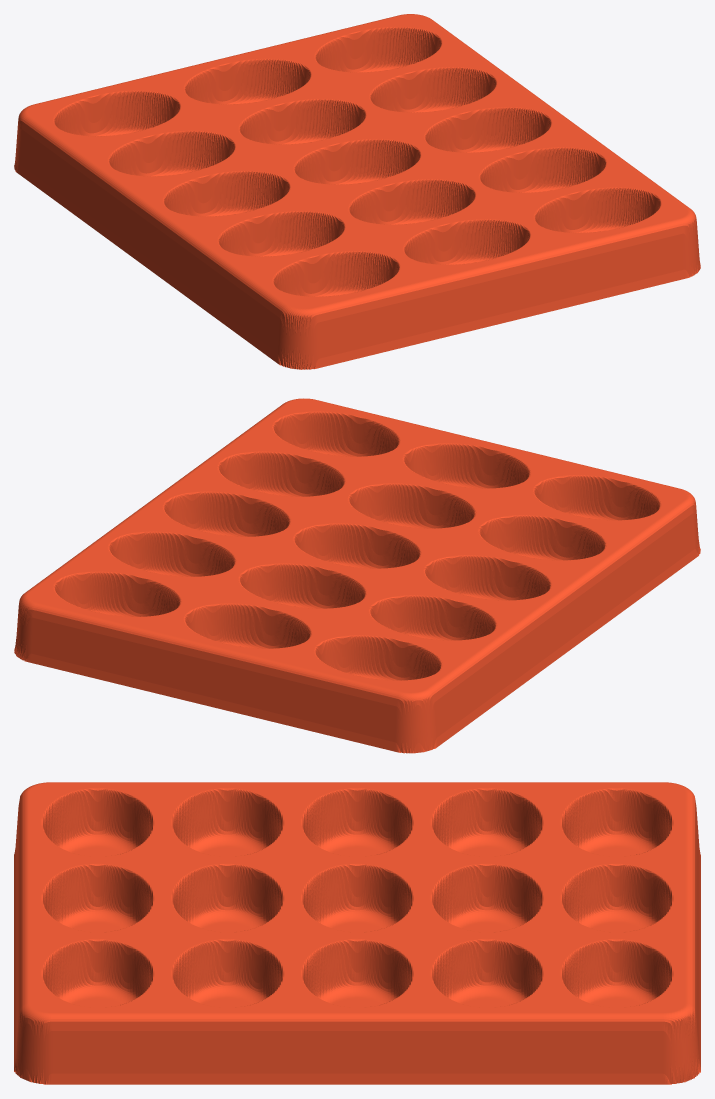
File: mold.glb
3 views of the same model, one above another, from view 1: azimuth 30°, elevation 25°; view 2: azimuth 150°, elevation 25°; view 3: azimuth 270°, elevation 25° (orthographic). The views are drawn at different scales.
Visible parts, largest first — view 1: geometry_0; view 2: geometry_0; view 3: geometry_0.
Part boxes in pixels (box(x1,y1,x2,y2)): geometry_0: box(14, 14, 700, 369); geometry_0: box(14, 398, 700, 753); geometry_0: box(14, 782, 700, 1084).
Bounding box in the file's own units: 0.1392 × 0.0175 × 0.1666.
